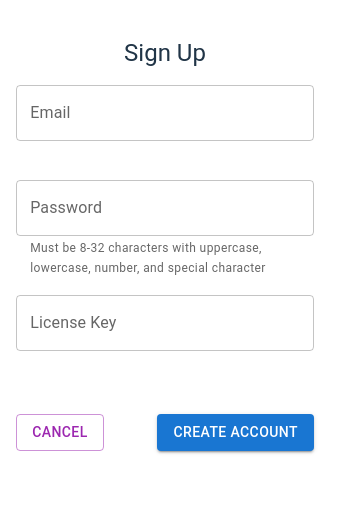
Test case: SignUp › submits bad values
The image size is (337, 506).
Type "user@example.com" into the field labelled "Email" at [165, 113], box [16,85,314,141]
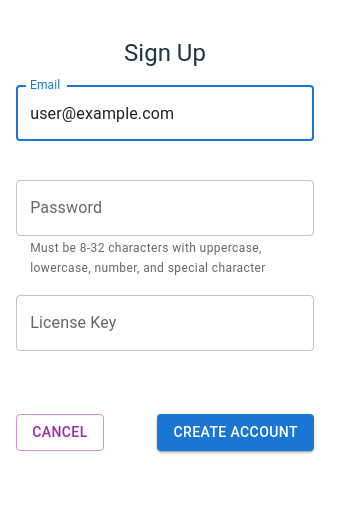
Type "Pass1234!" into the password field labelled "Password" at [165, 208], box [16,180,314,236]
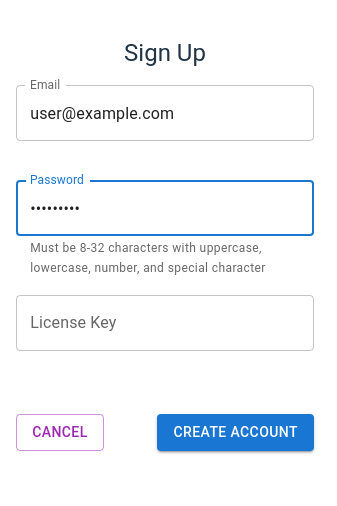
Type "12341234" into the field labelled "License Key" at [165, 323], box [16,295,314,351]
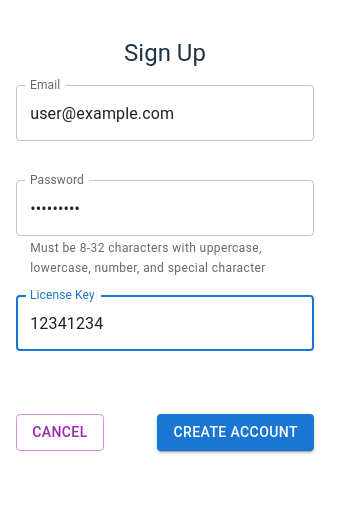
Click the button "Create Account" at [236, 432], box [158,414,314,451]
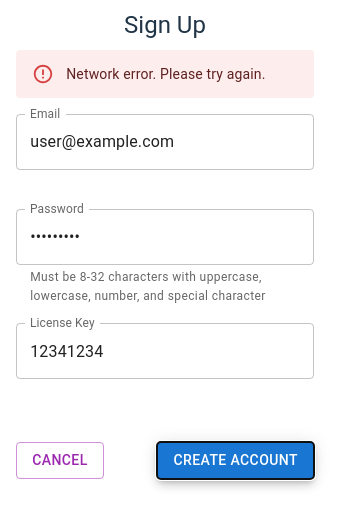
Result: the message "Network error. Please try again." is shown at [16,50,314,98]
